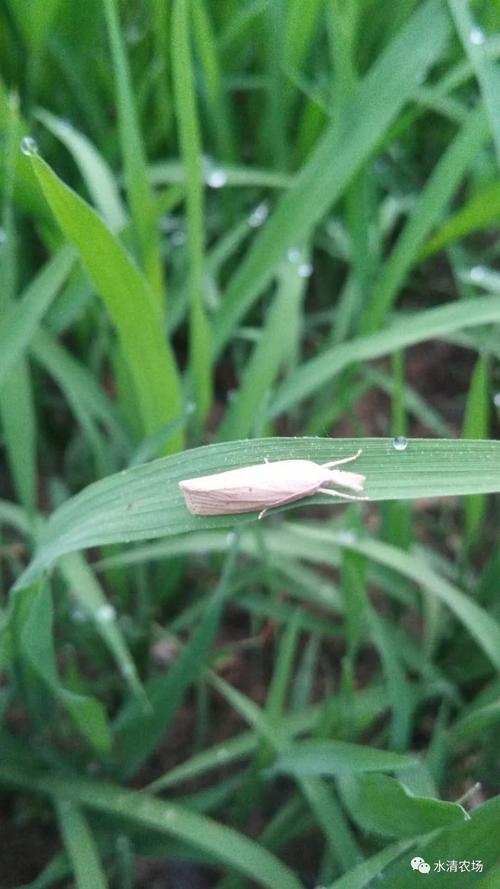Crambidae: (178, 444, 369, 524)
